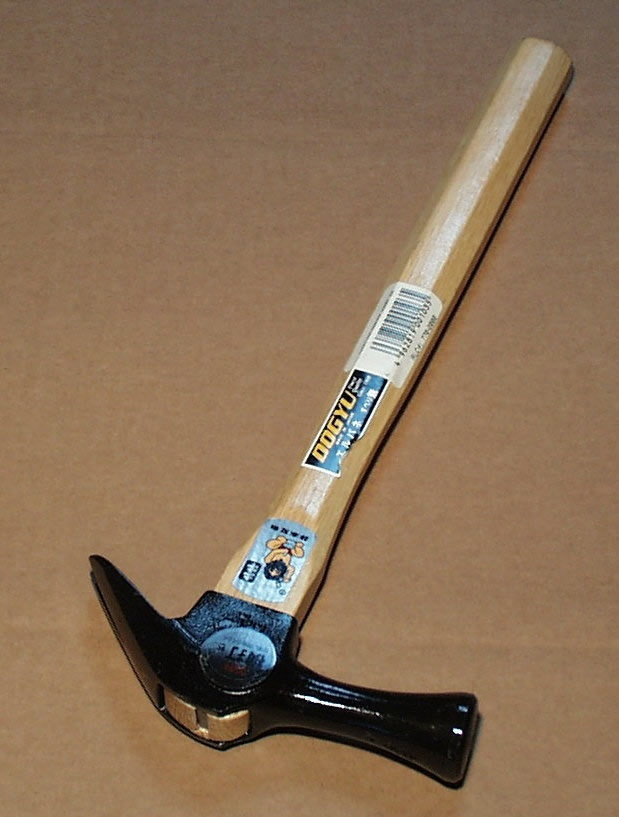hammer: (91, 30, 577, 788)
